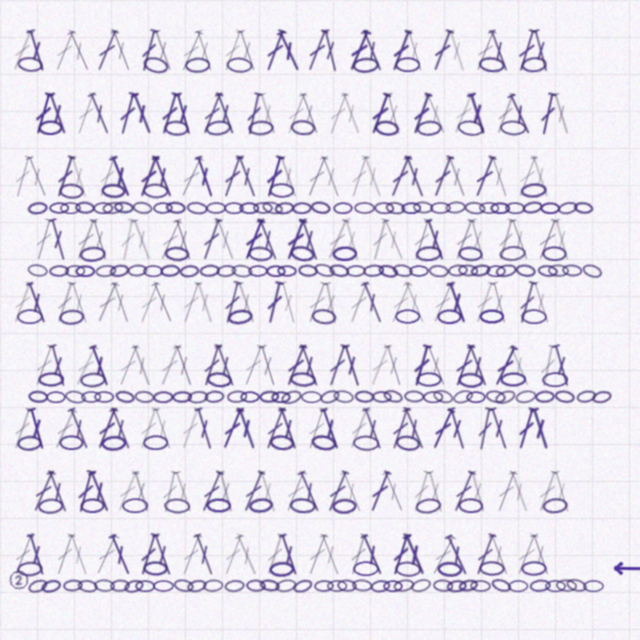chain: (142, 55, 169, 75), (289, 244, 316, 263), (310, 433, 337, 452), (205, 119, 232, 137), (457, 119, 484, 137), (415, 497, 442, 515), (374, 119, 400, 137), (227, 308, 253, 326), (395, 434, 421, 452), (478, 56, 505, 73), (520, 182, 547, 199), (415, 245, 442, 262), (499, 245, 526, 262), (289, 371, 316, 388), (289, 497, 316, 514), (17, 56, 43, 73), (521, 56, 547, 73), (290, 119, 316, 136), (311, 308, 337, 325), (206, 371, 232, 388), (269, 434, 295, 451), (248, 497, 274, 514), (542, 497, 568, 514), (226, 57, 253, 73), (352, 57, 379, 73), (79, 246, 106, 262), (248, 120, 274, 136), (416, 120, 442, 136), (500, 120, 526, 136), (164, 246, 190, 262), (80, 372, 106, 388), (353, 435, 379, 451), (164, 498, 190, 514), (17, 561, 43, 577), (395, 561, 421, 577), (280, 388, 303, 406), (494, 388, 517, 406), (185, 57, 210, 73), (164, 120, 189, 136), (59, 183, 84, 199), (101, 183, 126, 199), (143, 183, 168, 199), (248, 246, 273, 262), (458, 246, 483, 262), (59, 309, 84, 325), (458, 372, 483, 388), (17, 435, 42, 451), (101, 435, 126, 451), (38, 498, 63, 514), (332, 498, 357, 514), (269, 561, 294, 577), (437, 561, 462, 577), (581, 262, 603, 280), (27, 577, 49, 595), (292, 577, 314, 595), (313, 262, 336, 279), (565, 577, 588, 594), (17, 309, 43, 324), (521, 309, 547, 324), (38, 372, 64, 387), (416, 372, 442, 387), (500, 372, 526, 387), (542, 372, 568, 387), (122, 498, 148, 513), (353, 561, 379, 576), (479, 561, 505, 576), (521, 561, 547, 576), (395, 57, 420, 72), (38, 120, 63, 135), (269, 183, 294, 198), (332, 246, 357, 261), (542, 246, 567, 261), (395, 309, 420, 324), (437, 309, 462, 324), (479, 309, 504, 324), (59, 435, 84, 450), (143, 435, 168, 450), (80, 498, 105, 513), (206, 498, 231, 513), (458, 498, 483, 513), (143, 561, 168, 576), (319, 388, 341, 405), (382, 388, 404, 405), (432, 388, 454, 405), (452, 388, 474, 405), (410, 577, 432, 594), (490, 577, 512, 594), (261, 200, 284, 216), (64, 389, 87, 405), (557, 200, 579, 216), (377, 263, 399, 279), (114, 389, 136, 405), (591, 389, 613, 405), (40, 578, 62, 594), (123, 578, 145, 594), (186, 578, 208, 594), (328, 263, 350, 278), (495, 263, 517, 278), (515, 389, 537, 404), (275, 578, 297, 593), (393, 578, 415, 593), (310, 200, 331, 215), (522, 200, 543, 215), (27, 263, 48, 278), (109, 263, 130, 278), (392, 263, 413, 278), (470, 263, 491, 278), (515, 263, 536, 278), (333, 389, 354, 404), (485, 389, 506, 404), (554, 389, 575, 404), (576, 389, 597, 404), (173, 578, 194, 593), (259, 578, 280, 593), (458, 578, 479, 593), (102, 201, 124, 215), (186, 201, 208, 215), (464, 201, 486, 215), (95, 264, 117, 278), (231, 264, 253, 278), (187, 390, 209, 404), (27, 201, 48, 215), (132, 201, 153, 215), (274, 201, 295, 215), (385, 201, 406, 215), (573, 201, 594, 215), (179, 264, 200, 278), (216, 264, 237, 278), (428, 264, 449, 278), (537, 264, 558, 278), (134, 390, 155, 404), (77, 579, 98, 593), (224, 579, 245, 593), (370, 579, 391, 593), (446, 579, 467, 593), (529, 579, 551, 592), (113, 201, 134, 214), (165, 201, 186, 214), (445, 201, 466, 214), (127, 264, 148, 277), (199, 264, 220, 277), (363, 264, 384, 277), (548, 264, 569, 277), (204, 390, 225, 403), (354, 390, 375, 403), (94, 579, 115, 592), (556, 579, 577, 592), (75, 201, 95, 214), (413, 201, 433, 214), (160, 264, 180, 277), (298, 264, 318, 277), (448, 264, 468, 277), (458, 264, 478, 277), (562, 264, 582, 277), (28, 390, 48, 403), (227, 390, 247, 403), (259, 390, 279, 403), (404, 390, 424, 403), (535, 390, 555, 403), (63, 579, 83, 592), (110, 579, 130, 592), (203, 579, 223, 592), (246, 579, 266, 592), (337, 579, 357, 592), (352, 579, 372, 592), (433, 579, 453, 592), (60, 202, 81, 214), (354, 202, 375, 214), (430, 202, 451, 214), (301, 391, 322, 403), (153, 580, 174, 592), (470, 580, 491, 592), (545, 580, 566, 592), (583, 580, 604, 592), (49, 202, 69, 214), (93, 202, 113, 214), (153, 202, 173, 214), (206, 202, 226, 214), (224, 202, 244, 214), (239, 202, 259, 214), (253, 202, 273, 214), (292, 202, 312, 214), (333, 202, 353, 214), (374, 202, 394, 214), (401, 202, 421, 214), (479, 202, 499, 214), (490, 202, 510, 214), (505, 202, 525, 214), (540, 202, 560, 214), (49, 265, 69, 277), (65, 265, 85, 277), (75, 265, 95, 277), (143, 265, 163, 277), (248, 265, 268, 277), (266, 265, 286, 277), (277, 265, 297, 277), (346, 265, 366, 277), (409, 265, 429, 277), (486, 265, 506, 277), (46, 391, 66, 403), (81, 391, 101, 403), (94, 391, 114, 403), (153, 391, 173, 403), (172, 391, 192, 403), (240, 391, 260, 403), (271, 391, 291, 403), (372, 391, 392, 403), (423, 391, 443, 403), (466, 391, 486, 403), (135, 580, 155, 592), (314, 580, 334, 592), (327, 580, 347, 592), (383, 580, 403, 592), (508, 580, 528, 592)
double: (427, 533, 459, 577), (91, 532, 122, 577), (490, 344, 521, 388), (92, 28, 122, 73), (344, 28, 374, 73), (92, 280, 122, 325), (400, 532, 430, 577), (64, 29, 94, 73), (176, 29, 206, 73), (274, 29, 304, 73), (505, 92, 535, 136), (176, 155, 206, 199), (155, 218, 185, 262), (71, 344, 101, 388), (50, 407, 80, 451), (428, 407, 458, 451), (232, 533, 262, 577), (442, 533, 472, 577), (8, 28, 37, 73), (50, 28, 79, 73), (358, 28, 387, 73), (428, 28, 457, 73), (85, 91, 114, 136), (421, 91, 450, 136), (449, 91, 478, 136), (106, 154, 135, 199), (302, 154, 331, 199), (386, 154, 415, 199), (470, 154, 499, 199), (211, 217, 240, 262), (281, 217, 310, 262), (323, 217, 352, 262), (379, 217, 408, 262), (533, 217, 562, 262), (148, 280, 177, 325), (358, 280, 387, 325), (386, 280, 415, 325), (400, 280, 429, 325), (428, 280, 457, 325), (239, 343, 268, 388), (505, 343, 534, 388), (218, 406, 247, 451), (400, 406, 429, 451), (29, 469, 58, 514), (85, 469, 114, 514), (113, 469, 142, 514), (197, 469, 226, 514), (239, 469, 268, 514), (281, 469, 310, 514), (295, 469, 324, 514), (323, 469, 352, 514), (337, 469, 366, 514), (379, 469, 408, 514), (449, 469, 478, 514), (106, 532, 135, 577), (316, 532, 345, 577), (358, 532, 387, 577), (512, 532, 541, 577), (107, 28, 135, 73), (149, 28, 177, 73), (261, 28, 289, 73), (303, 28, 331, 73), (387, 28, 415, 73), (471, 28, 499, 73), (485, 28, 513, 73), (72, 91, 100, 136), (128, 91, 156, 136), (198, 91, 226, 136), (282, 91, 310, 136), (324, 91, 352, 136), (366, 91, 394, 136), (23, 154, 51, 199), (149, 154, 177, 199), (233, 154, 261, 199), (317, 154, 345, 199), (359, 154, 387, 199), (401, 154, 429, 199), (429, 154, 457, 199), (443, 154, 471, 199), (513, 154, 541, 199), (72, 217, 100, 262), (128, 217, 156, 262), (240, 217, 268, 262), (254, 217, 282, 262), (450, 217, 478, 262), (23, 280, 51, 325), (135, 280, 163, 325), (303, 280, 331, 325), (345, 280, 373, 325), (443, 280, 471, 325), (30, 343, 58, 388), (86, 343, 114, 388), (114, 343, 142, 388), (128, 343, 156, 388), (156, 343, 184, 388), (170, 343, 198, 388), (282, 343, 310, 388), (366, 343, 394, 388), (422, 343, 450, 388), (450, 343, 478, 388), (464, 343, 492, 388), (65, 406, 93, 451), (93, 406, 121, 451), (107, 406, 135, 451), (261, 406, 289, 451), (345, 406, 373, 451), (359, 406, 387, 451), (44, 469, 72, 514), (366, 469, 394, 514), (492, 469, 520, 514), (9, 532, 37, 577), (177, 532, 205, 577), (219, 532, 247, 577), (303, 532, 331, 577), (471, 532, 499, 577), (485, 532, 513, 577), (23, 28, 50, 73), (191, 28, 218, 73), (219, 28, 246, 73), (513, 28, 540, 73), (44, 91, 71, 136), (212, 91, 239, 136), (296, 91, 323, 136), (338, 91, 365, 136), (408, 91, 435, 136), (464, 91, 491, 136), (492, 91, 519, 136), (135, 154, 162, 199), (219, 154, 246, 199), (275, 154, 302, 199), (527, 154, 554, 199), (170, 217, 197, 262), (198, 217, 225, 262), (296, 217, 323, 262), (422, 217, 449, 262), (506, 217, 533, 262), (9, 280, 36, 325), (107, 280, 134, 325), (233, 280, 260, 325), (471, 280, 498, 325), (212, 343, 239, 388), (296, 343, 323, 388), (324, 343, 351, 388), (9, 406, 36, 451), (135, 406, 162, 451), (149, 406, 176, 451), (177, 406, 204, 451), (233, 406, 260, 451), (275, 406, 302, 451), (303, 406, 330, 451), (317, 406, 344, 451), (387, 406, 414, 451), (527, 406, 554, 451), (170, 469, 197, 514), (506, 469, 533, 514), (534, 469, 561, 514), (51, 532, 78, 577), (65, 532, 92, 577), (149, 532, 176, 577), (191, 532, 218, 577), (527, 532, 554, 577), (234, 28, 260, 73), (444, 28, 470, 73), (255, 91, 281, 136), (52, 154, 78, 199), (66, 154, 92, 199), (94, 154, 120, 199), (192, 154, 218, 199), (346, 154, 372, 199), (486, 154, 512, 199), (52, 280, 78, 325), (66, 280, 92, 325), (178, 280, 204, 325), (192, 280, 218, 325), (528, 280, 554, 325), (199, 343, 225, 388), (255, 343, 281, 388), (339, 343, 365, 388), (444, 406, 470, 451), (486, 406, 512, 451), (255, 469, 281, 514), (262, 532, 288, 577), (276, 532, 302, 577), (388, 532, 414, 577), (402, 28, 427, 73), (31, 91, 56, 136), (115, 91, 140, 136), (157, 91, 182, 136), (171, 91, 196, 136), (381, 91, 406, 136), (549, 91, 574, 136), (10, 154, 35, 199), (262, 154, 287, 199), (31, 217, 56, 262), (87, 217, 112, 262), (409, 217, 434, 262), (465, 217, 490, 262), (220, 280, 245, 325), (276, 280, 301, 325), (381, 343, 406, 388), (409, 343, 434, 388), (549, 343, 574, 388), (192, 406, 217, 451), (514, 406, 539, 451), (73, 469, 98, 514), (129, 469, 154, 514), (409, 469, 434, 514), (423, 469, 448, 514), (549, 469, 574, 514), (24, 532, 49, 577), (136, 532, 161, 577), (346, 532, 371, 577), (137, 28, 161, 73), (529, 28, 553, 73), (46, 217, 70, 262), (340, 217, 364, 262), (368, 217, 392, 262), (494, 217, 518, 262), (550, 217, 574, 262), (487, 280, 511, 325), (515, 280, 539, 325), (46, 343, 70, 388), (25, 406, 49, 451), (214, 469, 238, 514), (466, 469, 490, 514), (319, 28, 342, 73), (263, 280, 286, 325), (243, 92, 265, 136), (537, 92, 559, 136), (117, 218, 139, 262), (320, 281, 342, 325), (537, 344, 559, 388), (474, 407, 496, 451), (159, 470, 181, 514)
noise: (7, 568, 30, 591), (611, 562, 640, 575)
